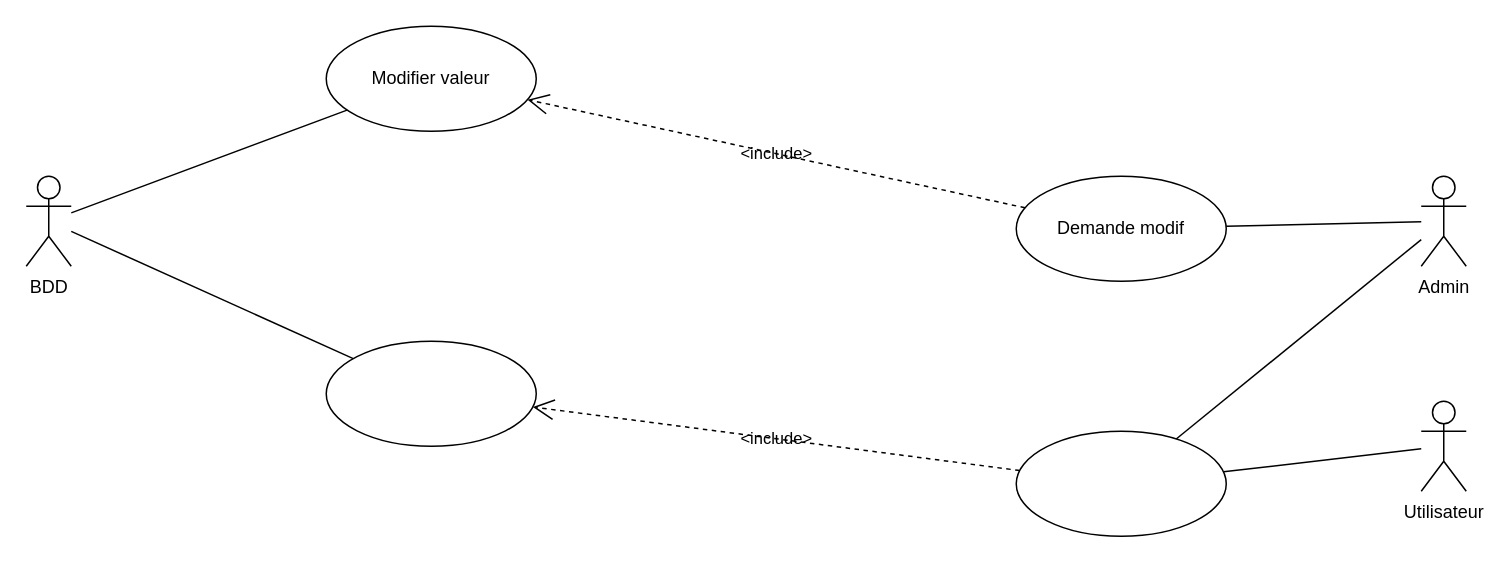
Some shapes in this 1509 by 563 pixel diagram are drawn without their labels. Each missing label, with the centre of its shape:
Demande infos: the point at 1120,483
Diffuser infos: the point at 430,393
